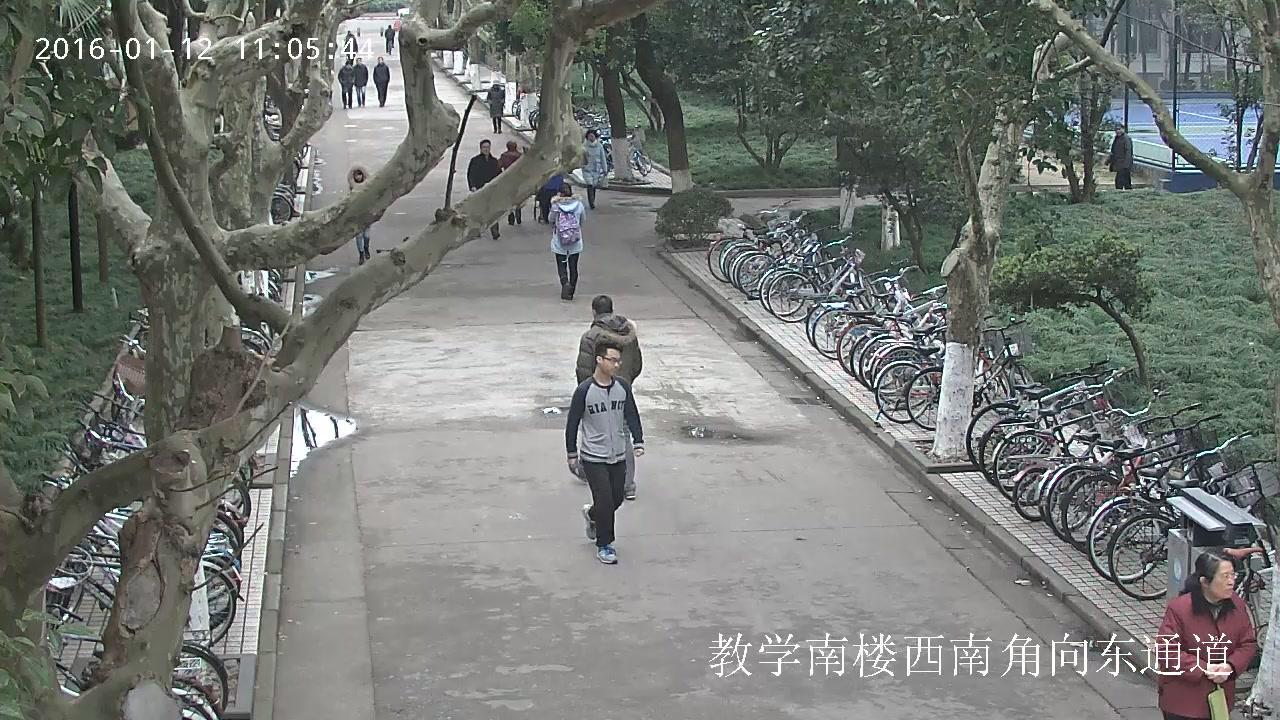person: (1154, 547, 1257, 720), (564, 343, 644, 564), (575, 294, 648, 501), (546, 183, 584, 301), (466, 139, 502, 240), (345, 165, 373, 266), (578, 129, 609, 209), (499, 140, 522, 225), (1104, 121, 1132, 189), (536, 171, 564, 222), (486, 80, 505, 133), (372, 56, 389, 106), (338, 61, 354, 109), (353, 58, 368, 107), (343, 36, 357, 62), (383, 25, 394, 54), (383, 25, 393, 49), (343, 30, 355, 44)
